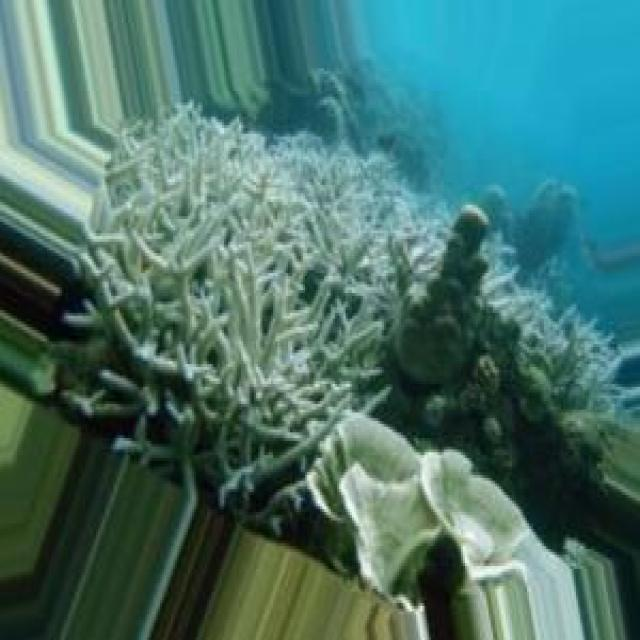Bleached: (52, 106, 610, 576), (382, 209, 521, 444), (309, 414, 445, 602), (422, 456, 532, 574)
